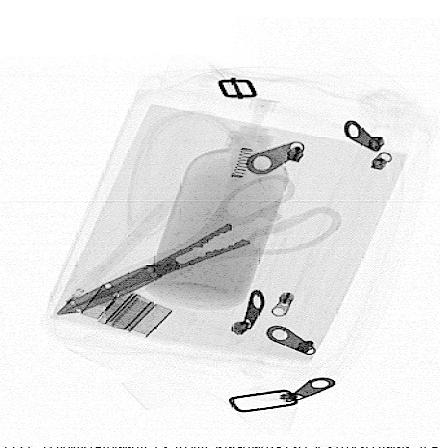Scissors: (54, 174, 344, 314)
